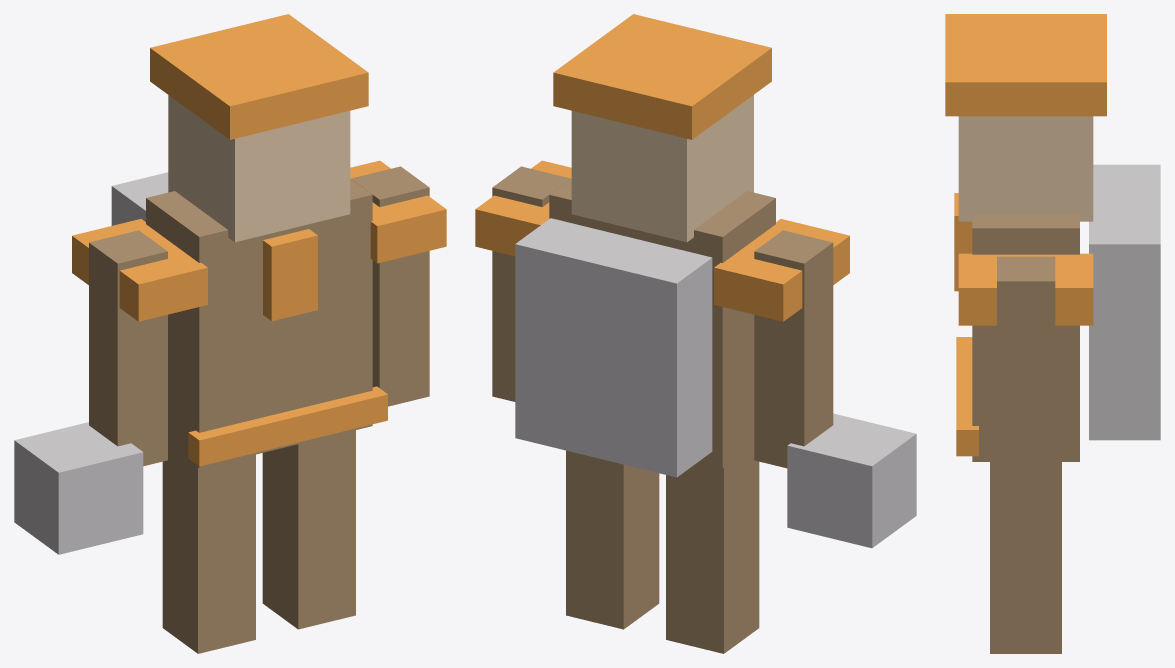
File: 13_elo_skyharrow_navigator_near_catalog.glb
The picture shows the model from 3 angles, left to right: view 1: azimuth 30°, elevation 25°; view 2: azimuth 150°, elevation 25°; view 3: azimuth 270°, elevation 25°; orthographic projection.
Visible parts, largest first — view 1: Elo Skyharrow, Navigator near Catalog; view 2: Elo Skyharrow, Navigator near Catalog; view 3: Elo Skyharrow, Navigator near Catalog.
Part boxes in pixels (bbox=[...]): Elo Skyharrow, Navigator near Catalog: bbox=[14, 14, 446, 653]; Elo Skyharrow, Navigator near Catalog: bbox=[475, 14, 916, 653]; Elo Skyharrow, Navigator near Catalog: bbox=[945, 14, 1160, 653].
Size of the model in its own units: 1.04 by 1.46 by 0.5019.
